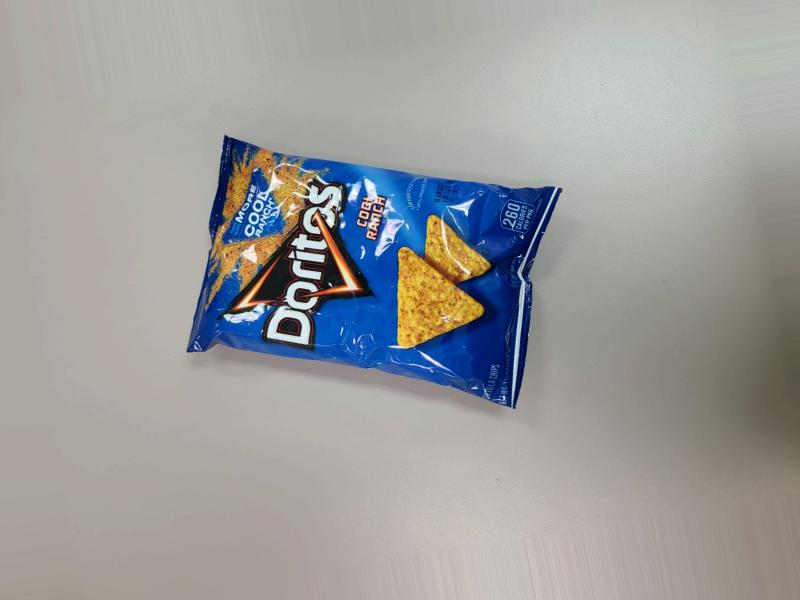doritos: (195, 112, 561, 440)
